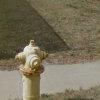Hydrant: (13, 33, 47, 100)
